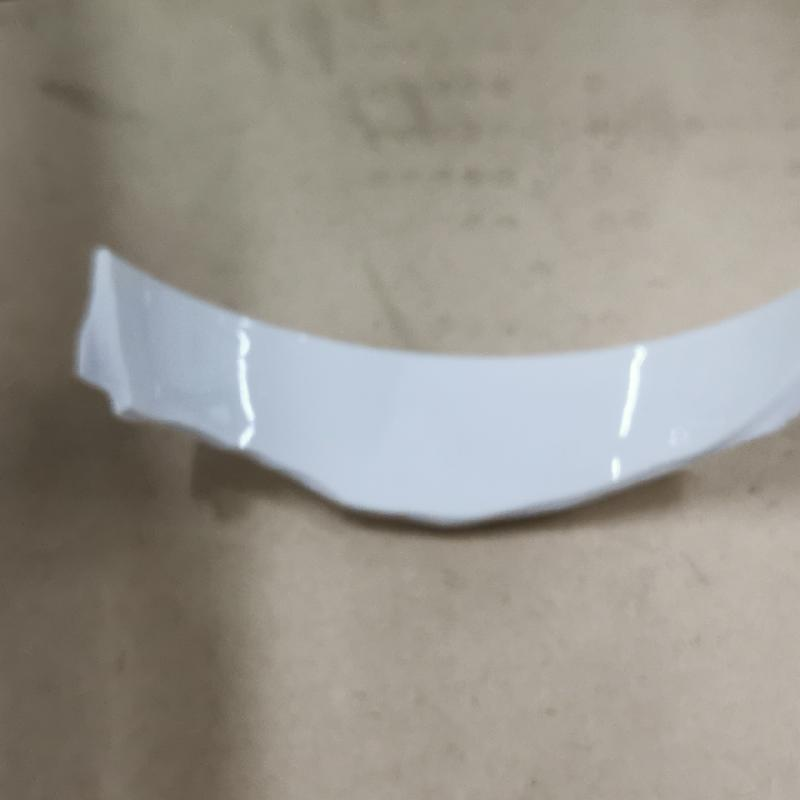ceram: (75, 238, 799, 536)
